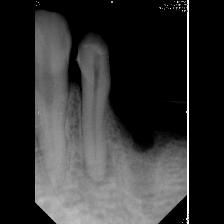apical_lesion: (77, 34, 120, 206)
